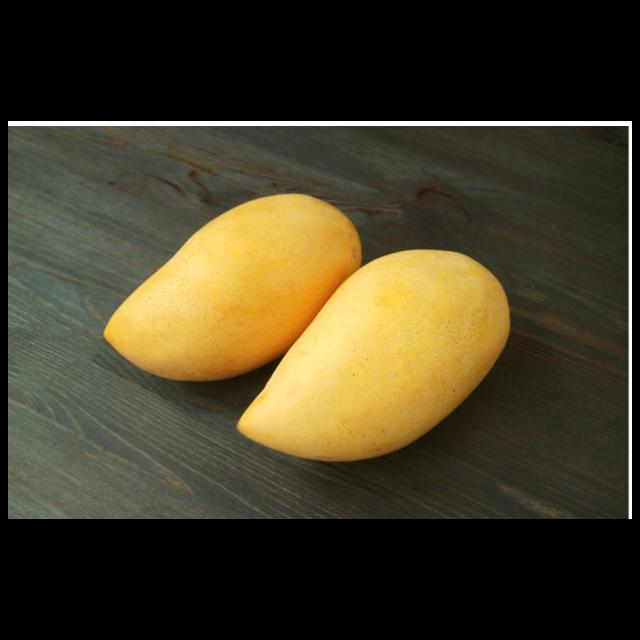mango: (235, 248, 514, 463), (105, 192, 360, 382)
